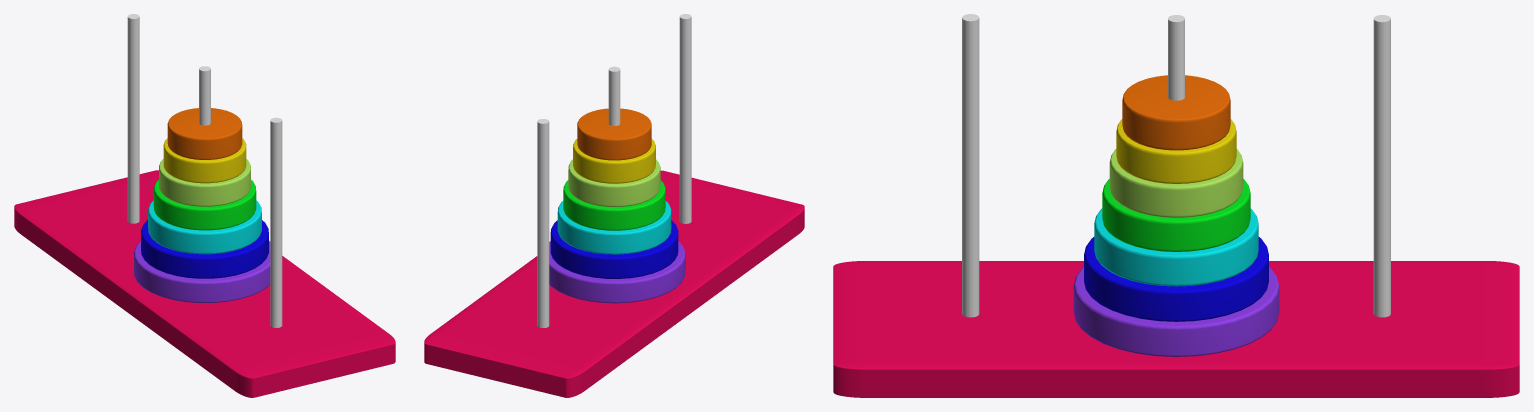
The model's file is TowerOfHenoi.fbx.
The picture shows the model from 3 angles, left to right: view 1: azimuth 30°, elevation 25°; view 2: azimuth 150°, elevation 25°; view 3: azimuth 270°, elevation 25°; orthographic projection. The views are drawn at different scales.
Parts seen in each view (by area): view 1: Base, 1, 2, 7, 3, Pole1, Pole3, 4, 5, 6, Pole2; view 2: Base, 1, 2, 7, 3, Pole1, Pole3, 4, 5, 6, Pole2; view 3: Base, 1, 2, 7, 3, 4, Pole1, Pole3, 5, 6, Pole2.
Boxes of the visible parts, x1,y1,x2,y2 form: Base: (14,170,395,397); 1: (134,241,270,302); 2: (141,220,268,278); 7: (167,108,242,159); 3: (148,200,261,254); Pole1: (270,117,282,327); Pole3: (127,14,139,223); 4: (153,179,256,230); 5: (159,159,250,206); 6: (163,138,246,183); Pole2: (199,66,210,125); Base: (424,170,804,397); 1: (549,241,685,303); 2: (550,220,678,278); 7: (577,108,651,160); 3: (557,200,671,254); Pole1: (679,14,691,223); Pole3: (537,119,549,327); 4: (563,180,665,230); 5: (568,159,660,206); 6: (573,138,655,183); Pole2: (608,66,620,125); Base: (833,261,1519,397); 1: (1073,267,1279,356); 2: (1084,237,1268,321); 7: (1122,75,1230,150); 3: (1094,208,1258,286); 4: (1102,179,1250,251); Pole1: (962,14,979,317); Pole3: (1373,15,1390,317); 5: (1109,149,1243,217); 6: (1116,119,1236,183); Pole2: (1168,15,1184,100).
Bounding box in the file's own units: 0.75 × 1.05 × 2.
